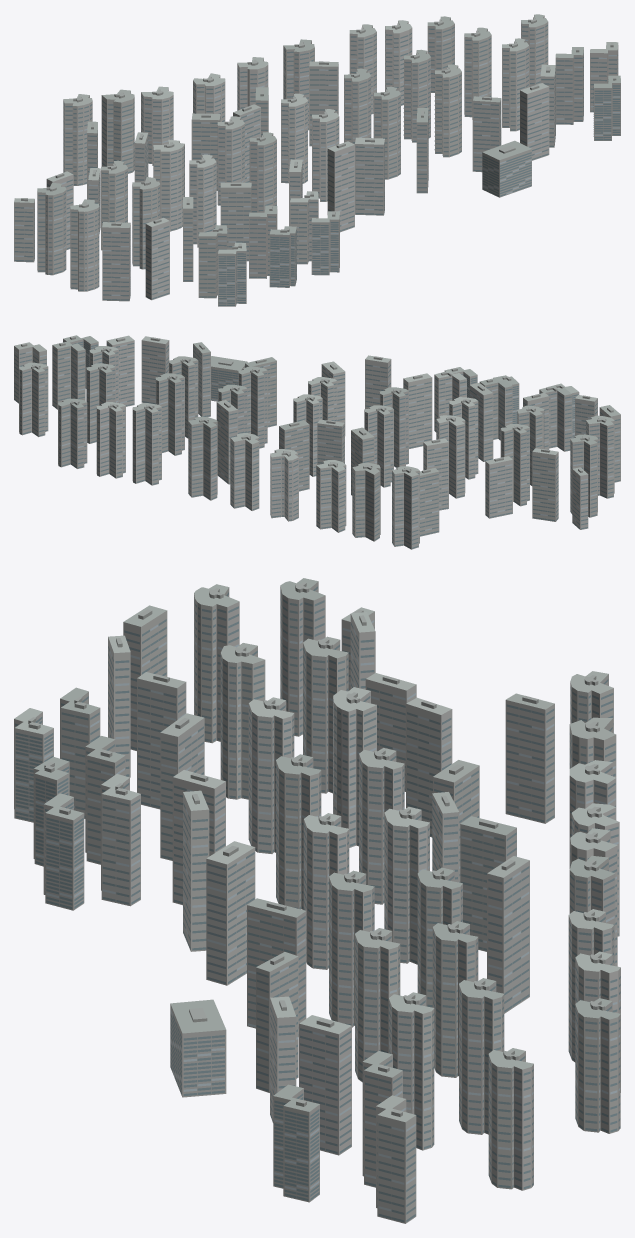
The model's file is apt-a13824006.glb.
The picture shows the model from 3 angles, top to bottom: view 1: azimuth 30°, elevation 25°; view 2: azimuth 150°, elevation 25°; view 3: azimuth 270°, elevation 25°; orthographic projection. The views are drawn at different scales.
Visible parts, largest first — view 1: apt-a13824006; view 2: apt-a13824006; view 3: apt-a13824006.
Boxes of the visible parts, box(x1,y1,x2,y2) form: apt-a13824006: box(14, 14, 620, 306); apt-a13824006: box(14, 335, 620, 549); apt-a13824006: box(14, 578, 620, 1223).
Bounding box in the file's own units: 789 × 103 × 393.
